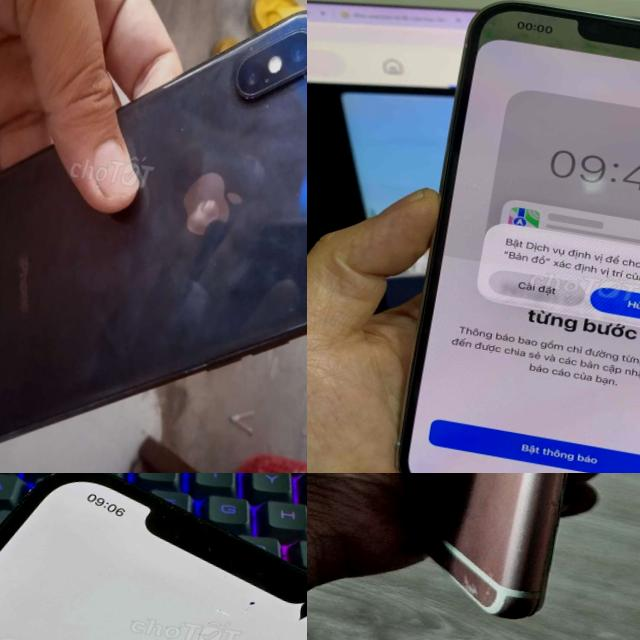scratch: (442, 549, 546, 626), (160, 113, 204, 148), (255, 92, 278, 120), (297, 56, 307, 94), (244, 40, 257, 60), (303, 39, 307, 65)
screen_defect: (207, 530, 307, 640)
